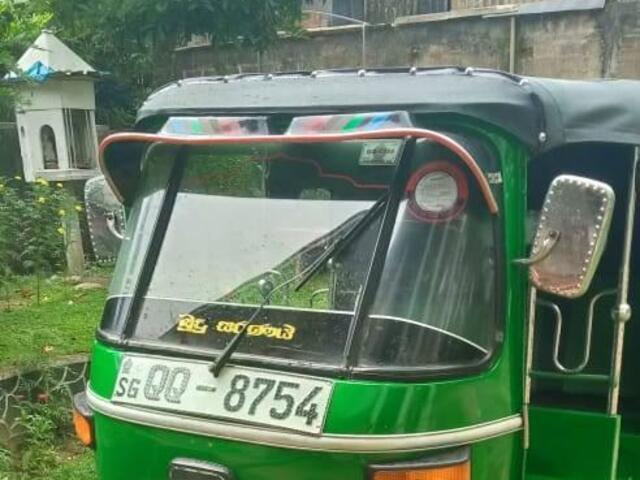threewheel: (71, 64, 640, 480)
